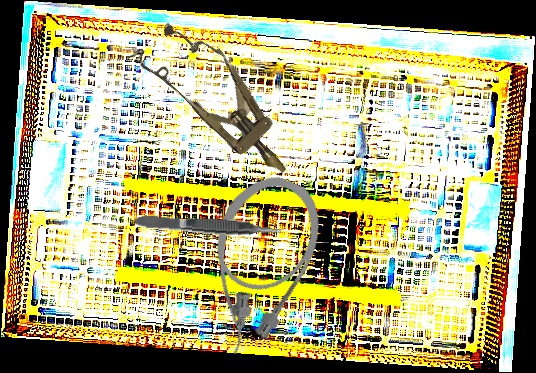Cannula: (176, 163, 336, 367)
Speculum: (128, 7, 311, 197)
Tissue Forceps: (133, 210, 286, 242)
